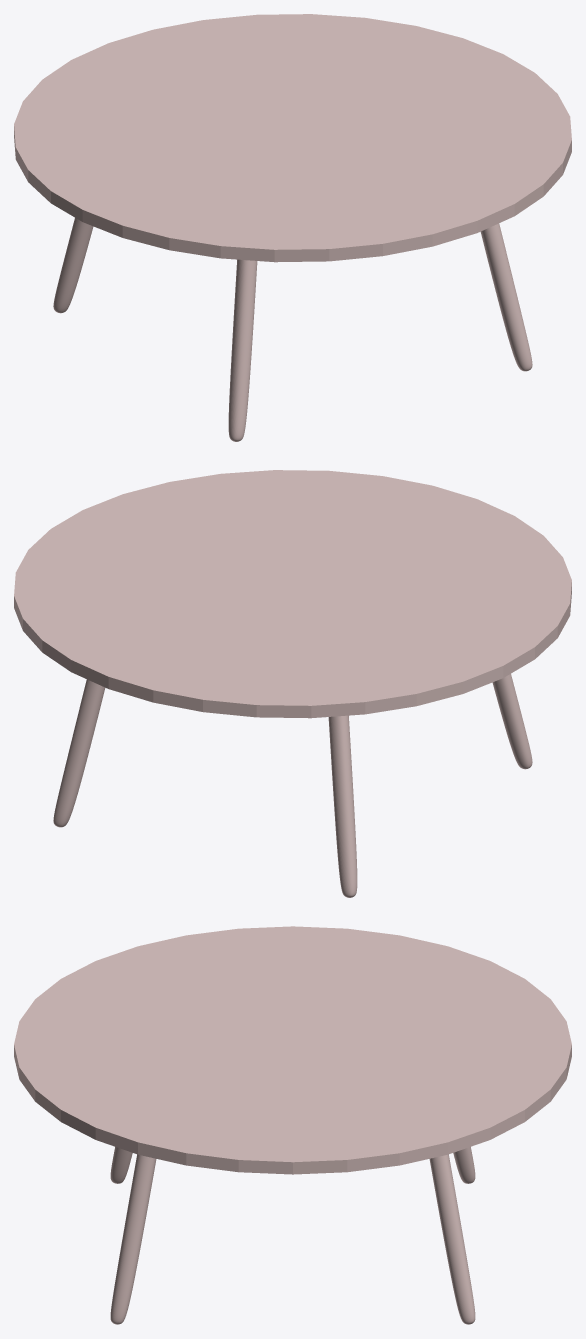
Rendered from dollTable.fbx.
The picture shows the model from 3 angles, top to bottom: view 1: azimuth 30°, elevation 25°; view 2: azimuth 150°, elevation 25°; view 3: azimuth 270°, elevation 25°; orthographic projection.
Parts seen in each view (by area): view 1: Circle, Plane; view 2: Circle, Plane; view 3: Circle, Plane.
Part boxes in pixels (x1,y1,x2,y2): Circle: (14, 14, 571, 262); Plane: (53, 218, 532, 441); Circle: (14, 470, 571, 718); Plane: (53, 674, 532, 897); Circle: (14, 926, 571, 1174); Plane: (110, 1147, 475, 1324).
Bounding box in the file's own units: 8215 × 3397 × 8215.
